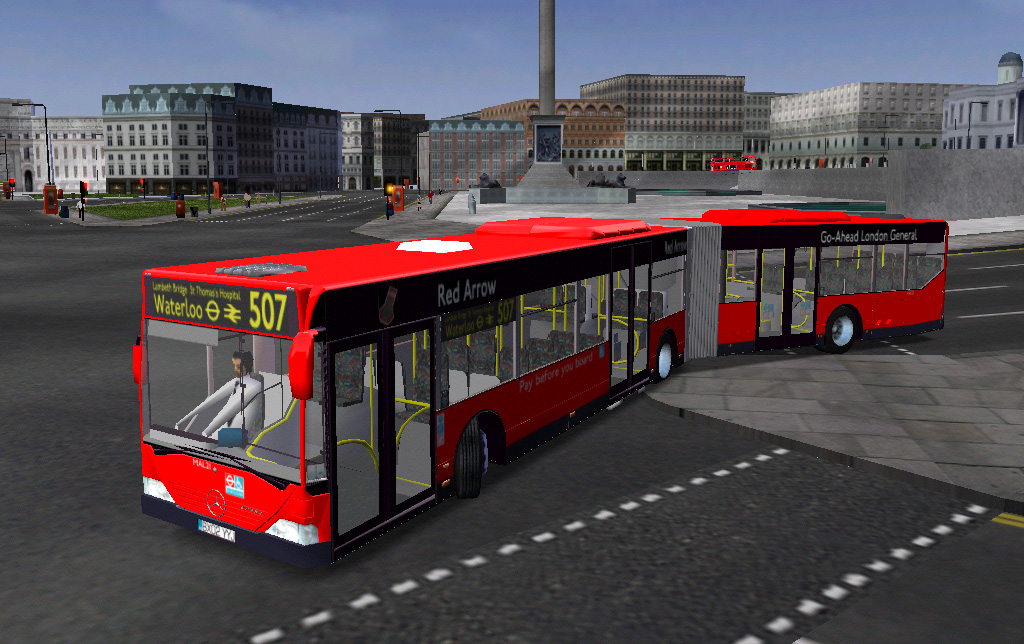front_view: (2, 178, 444, 384)
headlight: (319, 232, 426, 287)
